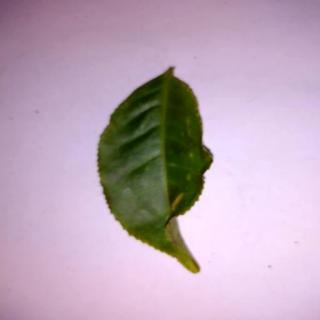Bird Eye Spot: (99, 65, 215, 275)
